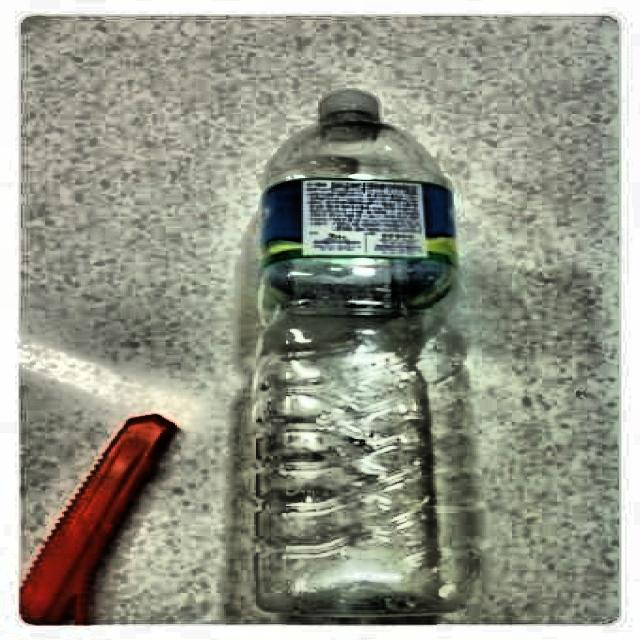Bottles: (240, 85, 486, 622)
